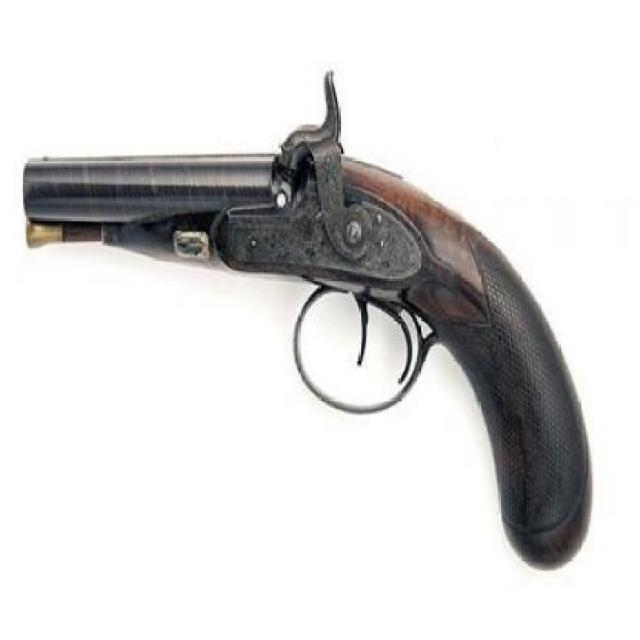Pistol: (18, 64, 597, 568)
